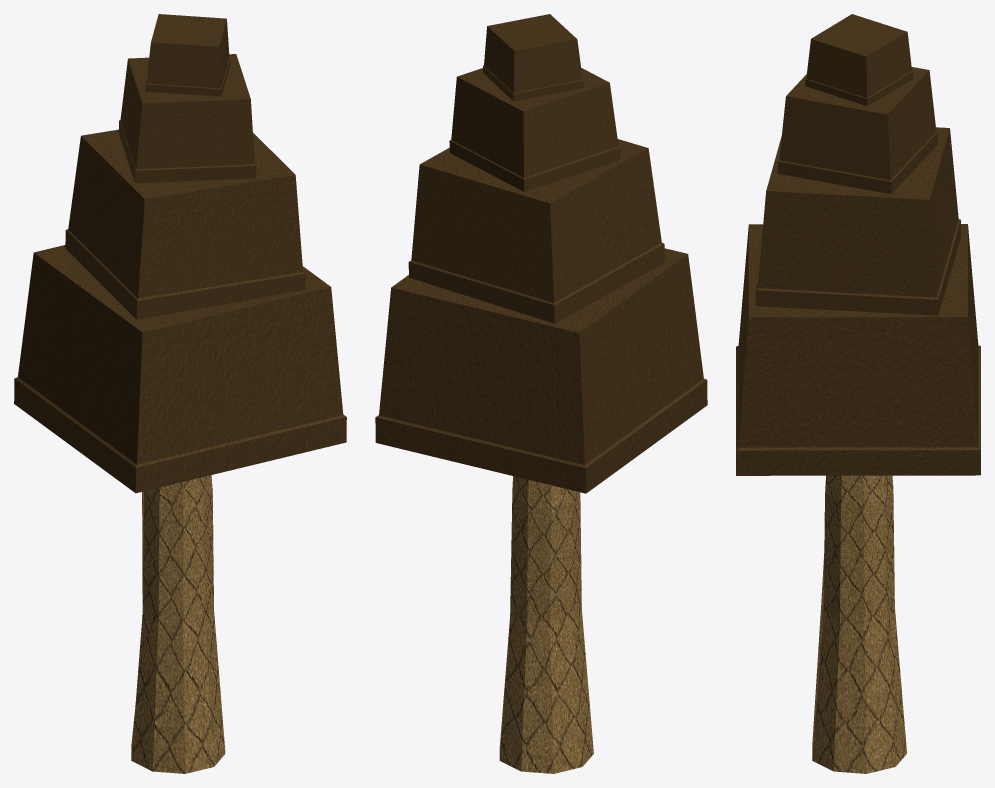
The model's file is hillTree3.obj.
The picture shows the model from 3 angles, left to right: view 1: azimuth 30°, elevation 25°; view 2: azimuth 150°, elevation 25°; view 3: azimuth 270°, elevation 25°; orthographic projection.
Parts seen in each view (by area): view 1: Cube.004, wood_Cylinder; view 2: Cube.004, wood_Cylinder; view 3: Cube.004, wood_Cylinder.
Boxes of the visible parts, <box> form: Cube.004: <box>14,14,346,493</box>; wood_Cylinder: <box>131,475,225,773</box>; Cube.004: <box>375,14,707,493</box>; wood_Cylinder: <box>499,476,593,773</box>; Cube.004: <box>736,14,980,475</box>; wood_Cylinder: <box>812,475,906,773</box>.
Bounding box in the file's own units: 0.8732 × 2.85 × 0.8716.
Materials: 2 (2 with a texture image).
